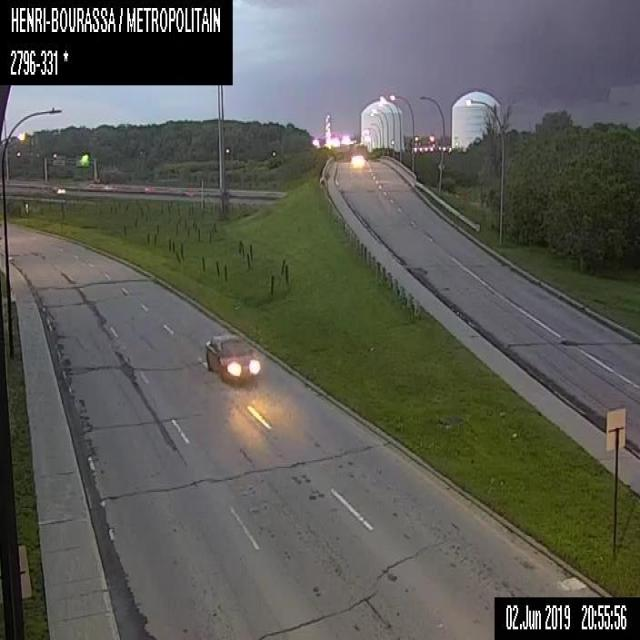vehicle: (204, 331, 261, 381), (349, 153, 365, 170), (51, 184, 65, 193)
